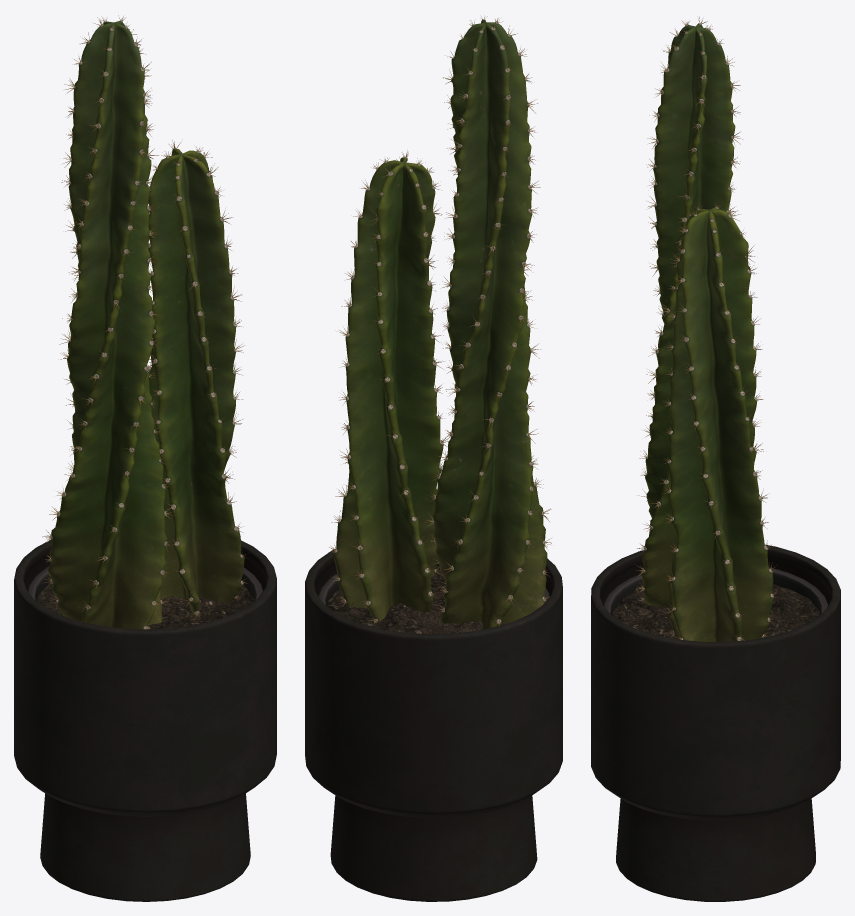
The model's file is cactus.glb.
3 views of the same model, side by side, from view 1: azimuth 30°, elevation 25°; view 2: azimuth 150°, elevation 25°; view 3: azimuth 270°, elevation 25° (orthographic). The views are drawn at different scales.
Parts seen in each view (by area): view 1: CEREUS_PERUVIANUS_MAT.001, BISHOP_CERAMIC_POT; view 2: CEREUS_PERUVIANUS_MAT.001, BISHOP_CERAMIC_POT; view 3: BISHOP_CERAMIC_POT, CEREUS_PERUVIANUS_MAT.001.
Part boxes in pixels (x1,y1,x2,y2): CEREUS_PERUVIANUS_MAT.001: [42, 15, 247, 629]; BISHOP_CERAMIC_POT: [14, 540, 276, 901]; CEREUS_PERUVIANUS_MAT.001: [329, 16, 551, 629]; BISHOP_CERAMIC_POT: [305, 550, 562, 901]; BISHOP_CERAMIC_POT: [591, 544, 840, 901]; CEREUS_PERUVIANUS_MAT.001: [636, 17, 780, 641].
Bounding box in the file's own units: 0.3379 × 1.22 × 0.3379.
Materials: 2 (2 with a texture image).
